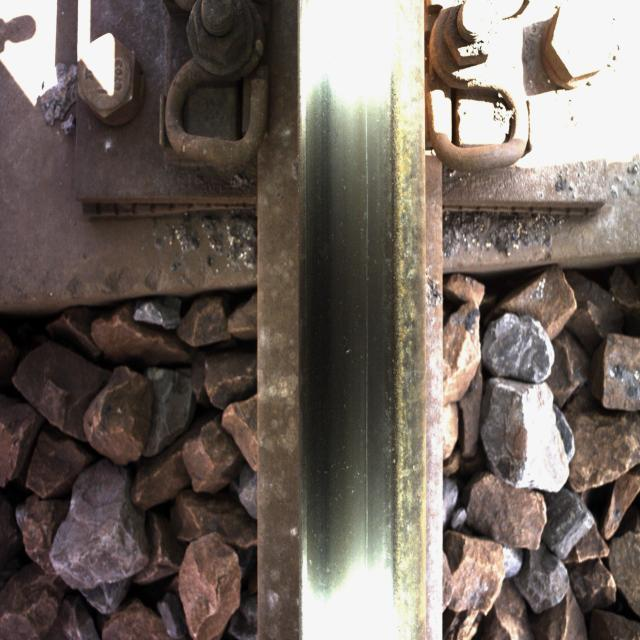break: (309, 69, 389, 604)
